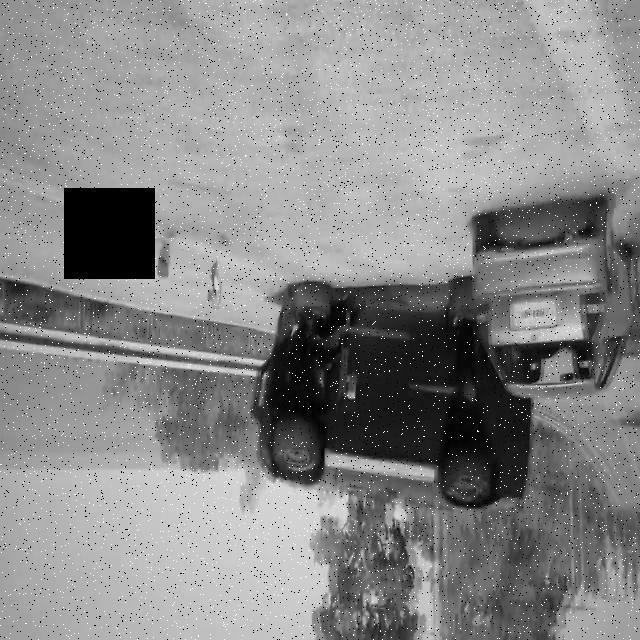person: (247, 267, 534, 526)
